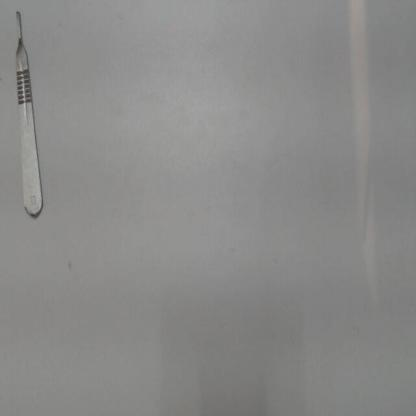No.3 BP Handle: (11, 5, 49, 230)
